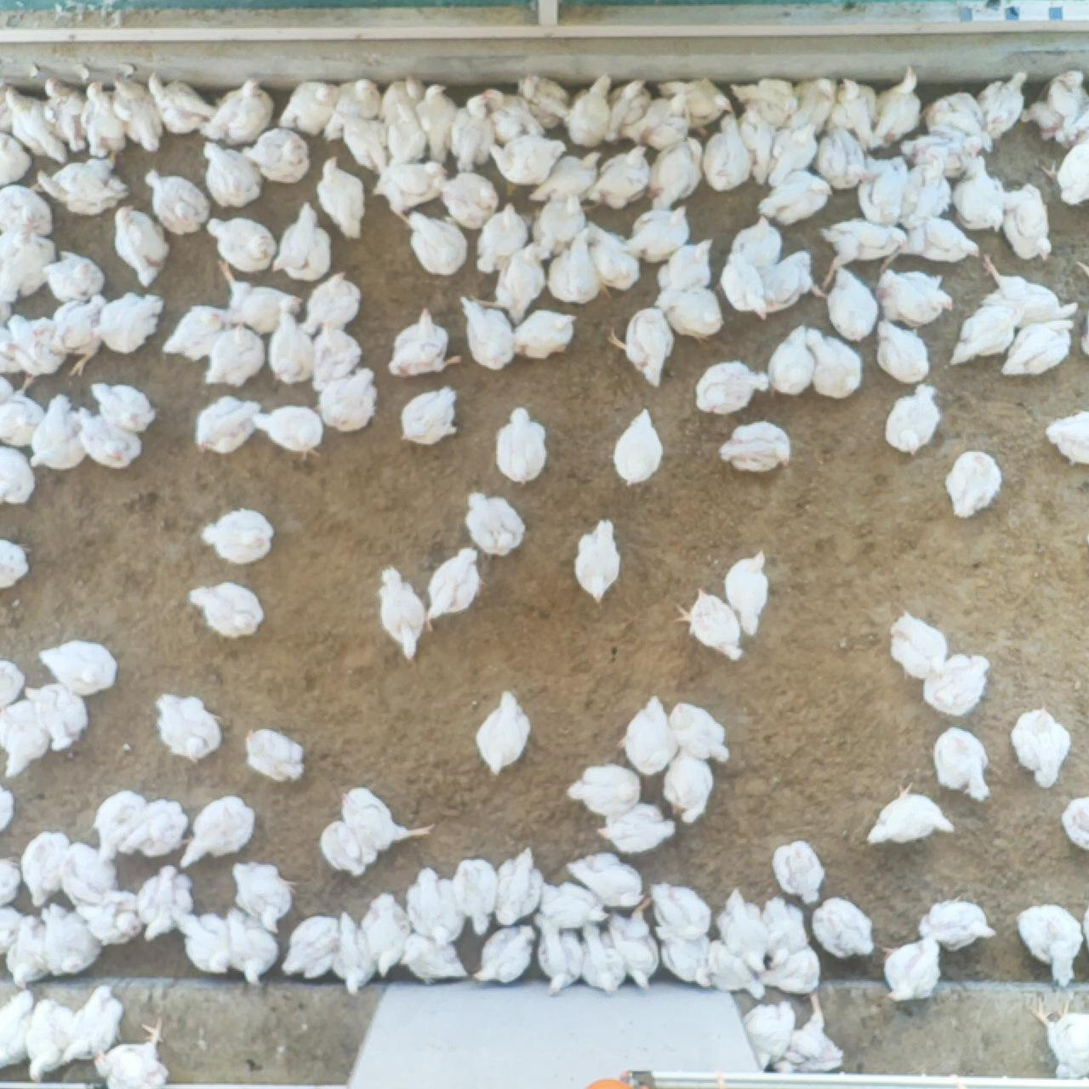chicken: (214, 254, 305, 339), (980, 252, 1080, 326), (464, 241, 547, 328), (31, 150, 134, 218), (335, 781, 440, 847), (600, 893, 667, 995), (383, 307, 466, 383), (670, 585, 748, 665), (364, 158, 449, 231), (1012, 902, 1084, 988), (179, 794, 259, 871), (922, 88, 1005, 162), (777, 997, 851, 1080), (91, 1014, 172, 1089), (606, 303, 680, 385), (226, 856, 303, 934), (864, 782, 956, 847), (1025, 988, 1089, 1081), (70, 400, 151, 473), (180, 582, 270, 647), (29, 388, 91, 481), (425, 541, 497, 621), (942, 301, 1023, 371), (1023, 65, 1089, 150), (46, 294, 110, 381), (948, 154, 1015, 237), (475, 688, 537, 777), (375, 568, 433, 663), (118, 791, 199, 859), (146, 63, 219, 138), (152, 687, 225, 762), (457, 288, 522, 371), (269, 201, 333, 285), (85, 289, 165, 356), (932, 722, 995, 807), (5, 303, 70, 385), (21, 681, 93, 755), (1012, 704, 1074, 789), (460, 488, 533, 560), (875, 261, 953, 328), (59, 984, 122, 1066), (111, 204, 174, 286), (618, 692, 680, 775), (488, 844, 550, 927), (999, 316, 1078, 381), (406, 864, 470, 944), (208, 73, 279, 145), (299, 266, 367, 341), (647, 130, 707, 215), (36, 639, 122, 698), (5, 83, 70, 161), (253, 398, 332, 462), (698, 109, 756, 196), (698, 107, 754, 197), (198, 135, 266, 209), (556, 74, 618, 155), (916, 892, 1001, 951), (761, 108, 820, 193), (282, 906, 345, 985), (922, 650, 992, 721), (195, 394, 265, 465), (402, 205, 470, 278), (89, 790, 151, 870), (199, 505, 279, 567), (491, 402, 550, 486), (493, 124, 569, 189), (718, 884, 778, 966), (1, 700, 60, 783), (139, 168, 214, 233), (42, 895, 105, 972), (693, 359, 773, 419), (474, 198, 533, 279), (648, 877, 716, 947), (542, 227, 603, 305), (316, 814, 387, 881), (586, 142, 653, 213), (397, 379, 461, 453), (533, 915, 590, 998), (997, 177, 1054, 260), (446, 852, 501, 938), (741, 993, 797, 1077), (567, 847, 648, 905), (820, 265, 881, 342), (469, 922, 539, 989), (619, 205, 701, 262), (163, 300, 237, 363), (29, 992, 77, 1089), (314, 151, 368, 237), (610, 408, 668, 488), (1, 226, 58, 307), (653, 230, 717, 302), (701, 934, 765, 1006), (205, 209, 277, 273), (806, 324, 864, 403), (888, 607, 949, 682), (881, 382, 942, 457), (620, 88, 696, 148), (318, 363, 385, 431), (399, 929, 476, 988), (942, 448, 1003, 522), (524, 150, 606, 205), (880, 933, 944, 1003), (265, 311, 326, 384), (807, 895, 875, 960), (871, 60, 923, 145), (659, 70, 735, 128), (854, 146, 909, 226), (572, 519, 625, 602), (567, 761, 644, 818), (663, 741, 714, 827), (656, 282, 729, 342), (1031, 133, 1089, 208), (331, 910, 384, 992), (871, 317, 933, 387), (529, 877, 613, 928), (208, 321, 270, 390), (718, 419, 793, 476), (242, 724, 313, 784), (243, 127, 314, 187), (232, 904, 282, 989), (363, 891, 412, 977), (379, 71, 429, 155), (25, 829, 82, 902), (728, 69, 801, 125), (676, 696, 733, 767), (754, 892, 807, 968), (899, 155, 955, 226), (716, 249, 772, 320), (440, 169, 503, 232), (278, 73, 339, 138), (584, 220, 644, 286), (1, 981, 46, 1069), (1, 183, 60, 248), (43, 77, 97, 148), (815, 116, 864, 194), (510, 66, 567, 133), (766, 323, 818, 396), (579, 920, 630, 994), (513, 305, 579, 362), (142, 861, 194, 933), (772, 839, 827, 907), (663, 921, 718, 989), (417, 79, 459, 168), (782, 74, 844, 134), (325, 77, 382, 142), (87, 377, 159, 428), (477, 81, 546, 134), (454, 93, 499, 174), (43, 249, 108, 305), (114, 75, 162, 150), (339, 110, 395, 174), (759, 171, 832, 220), (731, 207, 786, 271), (759, 248, 823, 303), (84, 79, 130, 154), (603, 76, 652, 146), (978, 69, 1029, 135), (183, 912, 234, 978), (306, 323, 360, 385), (730, 550, 768, 636), (830, 77, 879, 143), (758, 949, 829, 994), (1, 443, 44, 517), (744, 104, 779, 191), (9, 915, 48, 992), (81, 891, 140, 940), (1041, 407, 1089, 465), (1, 393, 48, 449), (1, 130, 37, 190), (1058, 788, 1089, 855), (1, 534, 36, 593), (1, 324, 37, 380), (1, 855, 30, 909), (1076, 256, 1089, 360), (1, 906, 28, 956), (1, 660, 26, 713), (1, 79, 17, 136), (1079, 889, 1089, 958), (1, 784, 14, 836), (1, 371, 21, 403)
